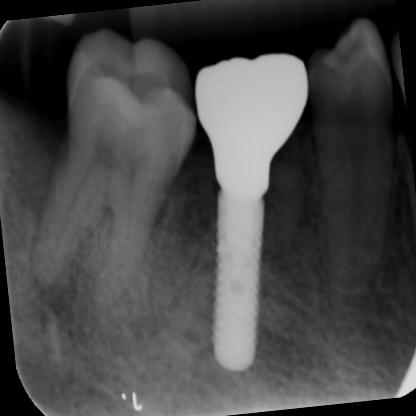ITI: (190, 189, 286, 377)
